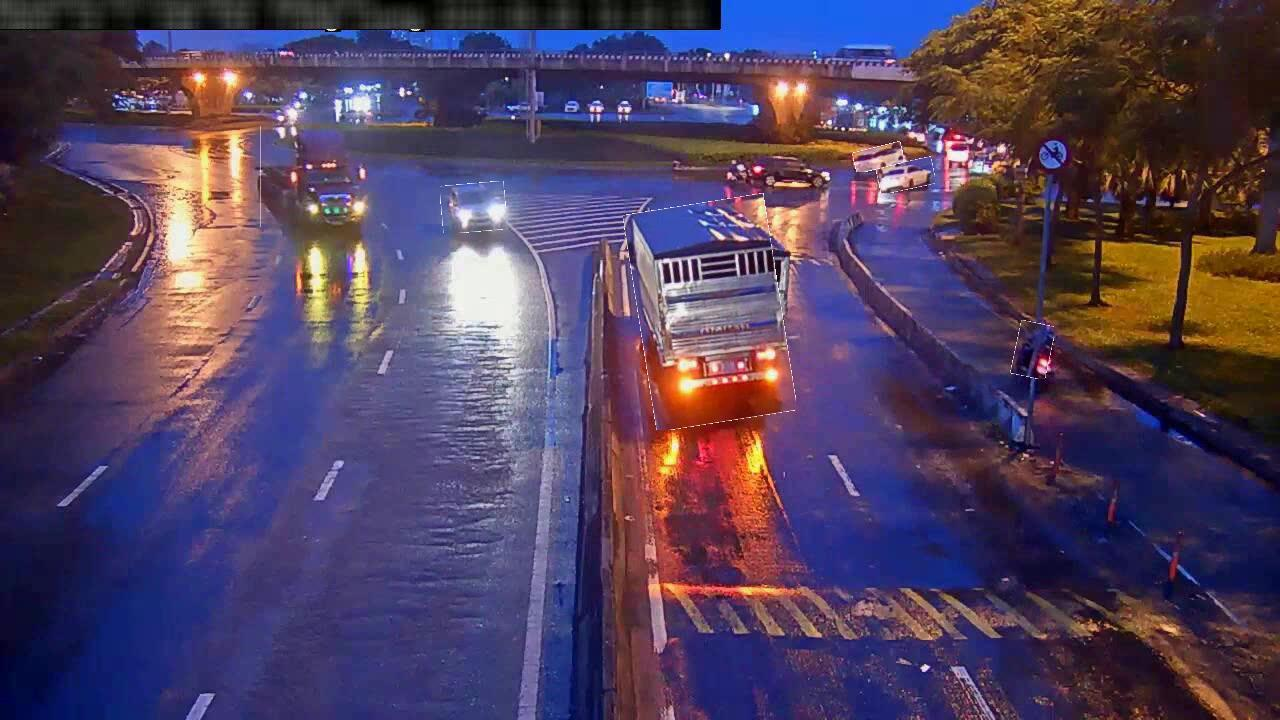8: (631, 198, 789, 427), (260, 126, 369, 228)
container: (441, 183, 507, 233), (877, 159, 935, 192), (853, 144, 904, 171)
motorbike: (1013, 322, 1053, 379)
